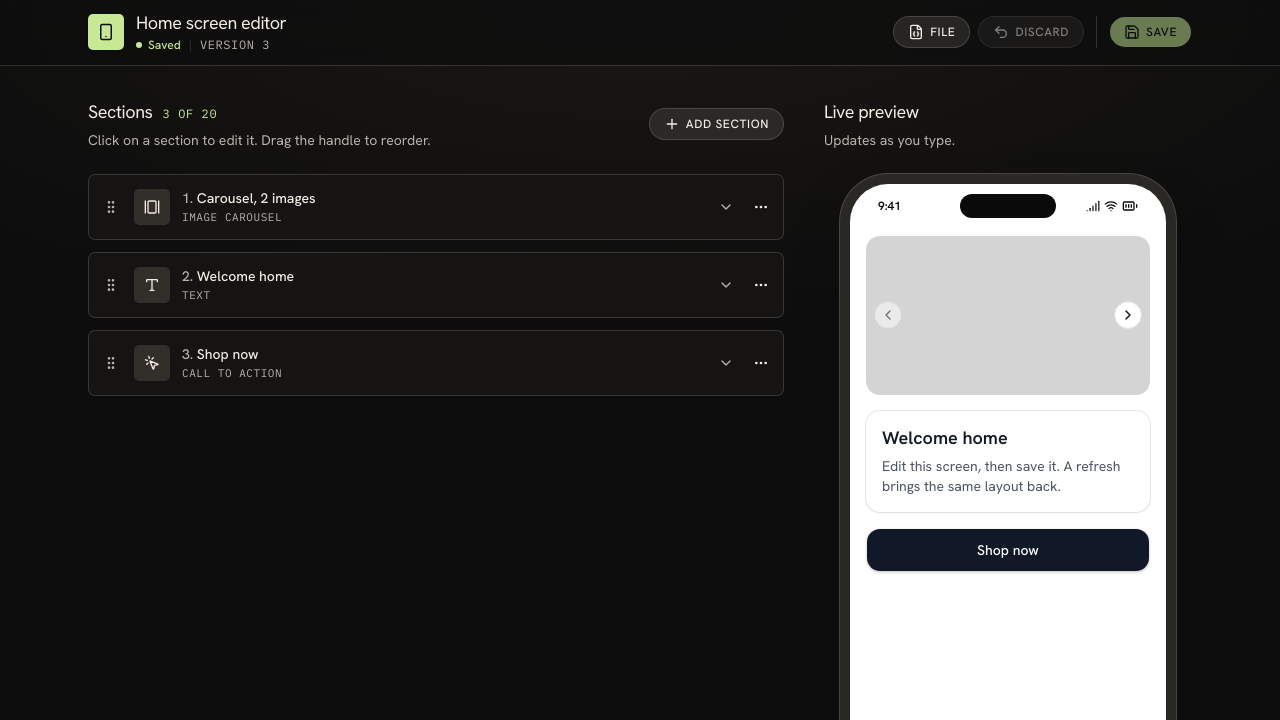
Test: EditorScreen › deletes a section after confirmation
Click the button named "Actions for Shop now" at coordinates (761, 362), box [747,348,775,376]
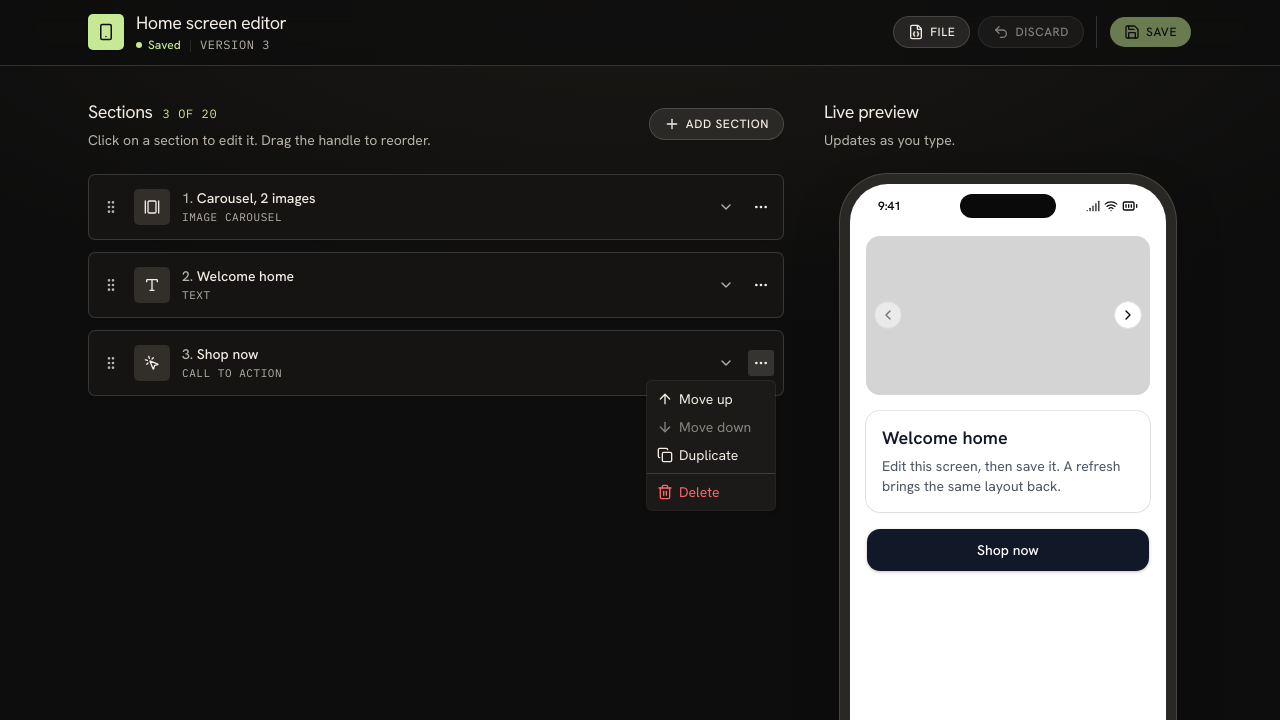
Click the menu item "Delete" at coordinates (688, 492), box [657,483,720,501]
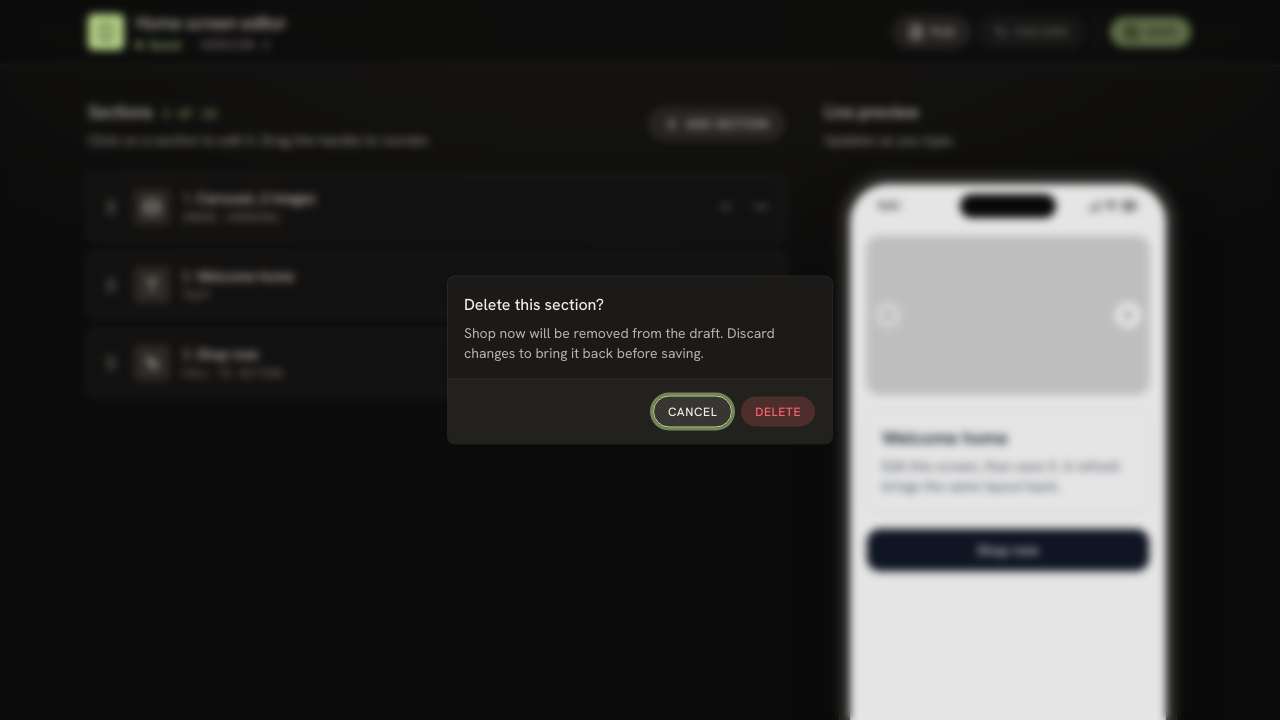
Click the button "Delete" at coordinates (778, 412), box [740,396,816,428]
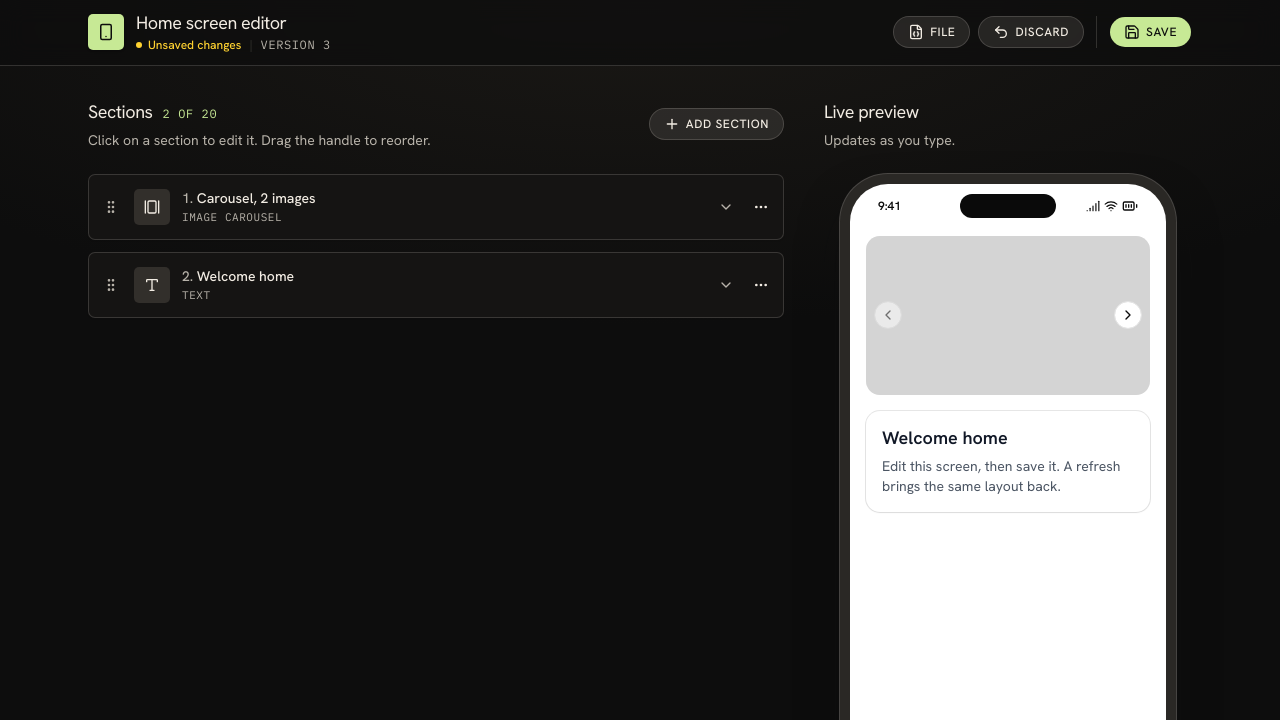
Now the button "3. Shop now" is gone
